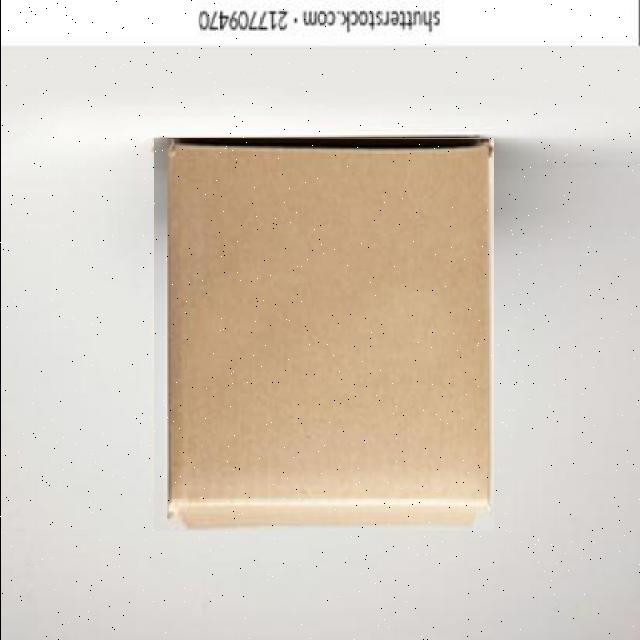normal: (152, 138, 492, 531)
